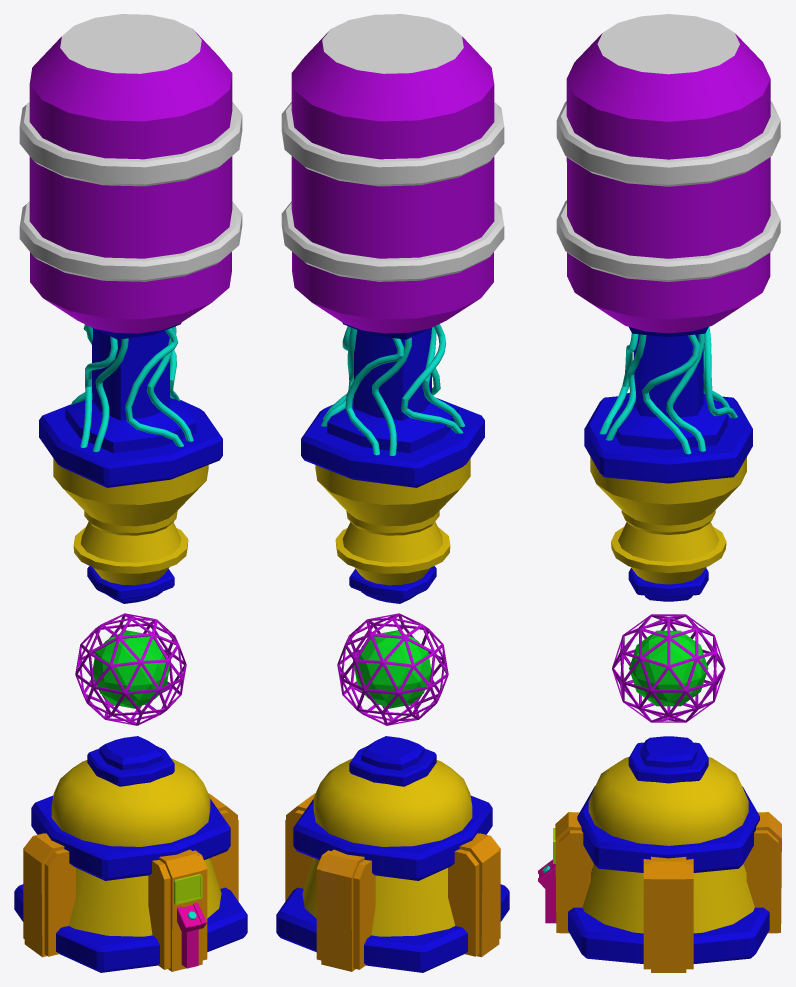
The model's file is CORE.fbx.
3 renders of one model, left to right at view 1: azimuth 30°, elevation 25°; view 2: azimuth 150°, elevation 25°; view 3: azimuth 270°, elevation 25°, orthographic.
Parts seen in each view (by area): view 1: Cylinder.013; view 2: Cylinder.013; view 3: Cylinder.013.
Part boxes in pixels (bbox=[...]): Cylinder.013: bbox=[14, 14, 247, 972]; Cylinder.013: bbox=[276, 14, 509, 972]; Cylinder.013: bbox=[538, 14, 781, 972].
Bounding box in the file's own units: 366 × 1570 × 394.
